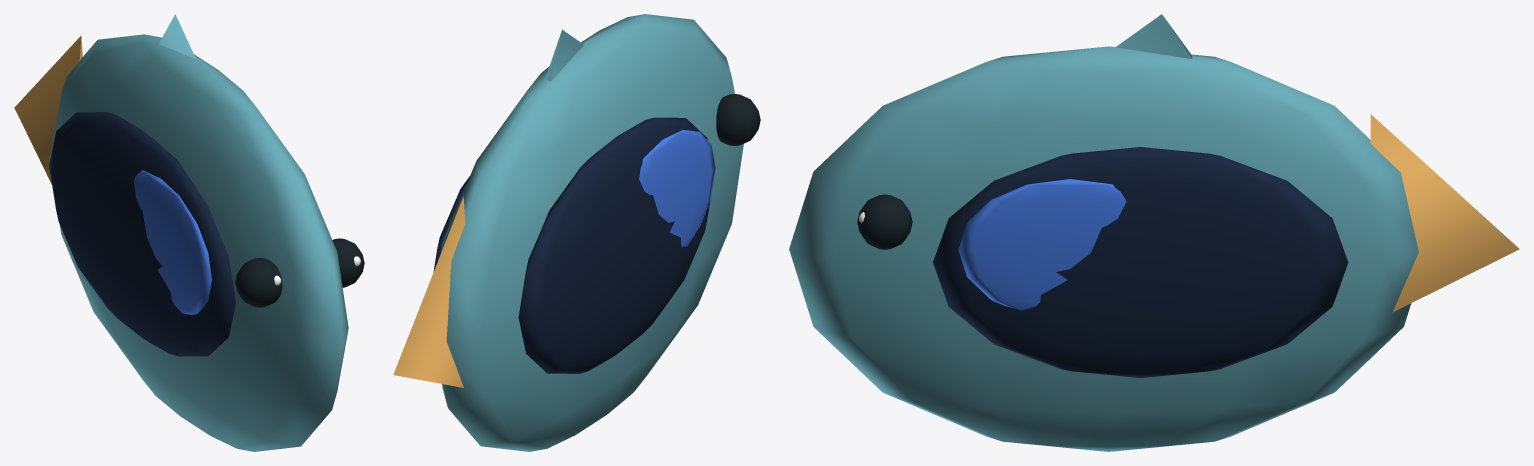
Rendered from tang.glb.
3 renders of one model, left to right at view 1: azimuth 30°, elevation 25°; view 2: azimuth 150°, elevation 25°; view 3: azimuth 270°, elevation 25°, orthographic. The views are drawn at different scales.
Visible parts, largest first — view 1: skin (×3), mark, accent, eye (×2); view 2: skin (×3), mark (×2), accent, eye; view 3: skin (×3), mark, accent, eye.
Boxes of the visible parts, x1,y1,x2,y2 form: skin (×3): (50,14,348,451); mark: (49,112,235,356); accent: (14,35,82,184); eye (×2): (235,238,364,307); skin (×3): (440,14,743,451); mark (×2): (433,117,710,373); accent: (393,196,465,387); eye: (716,94,760,145); skin (×3): (789,14,1418,451); mark: (933,147,1348,377); accent: (1370,114,1519,312); eye: (857,194,912,249).
Size of the model in its own units: 0.75 by 2.27 by 3.43.
